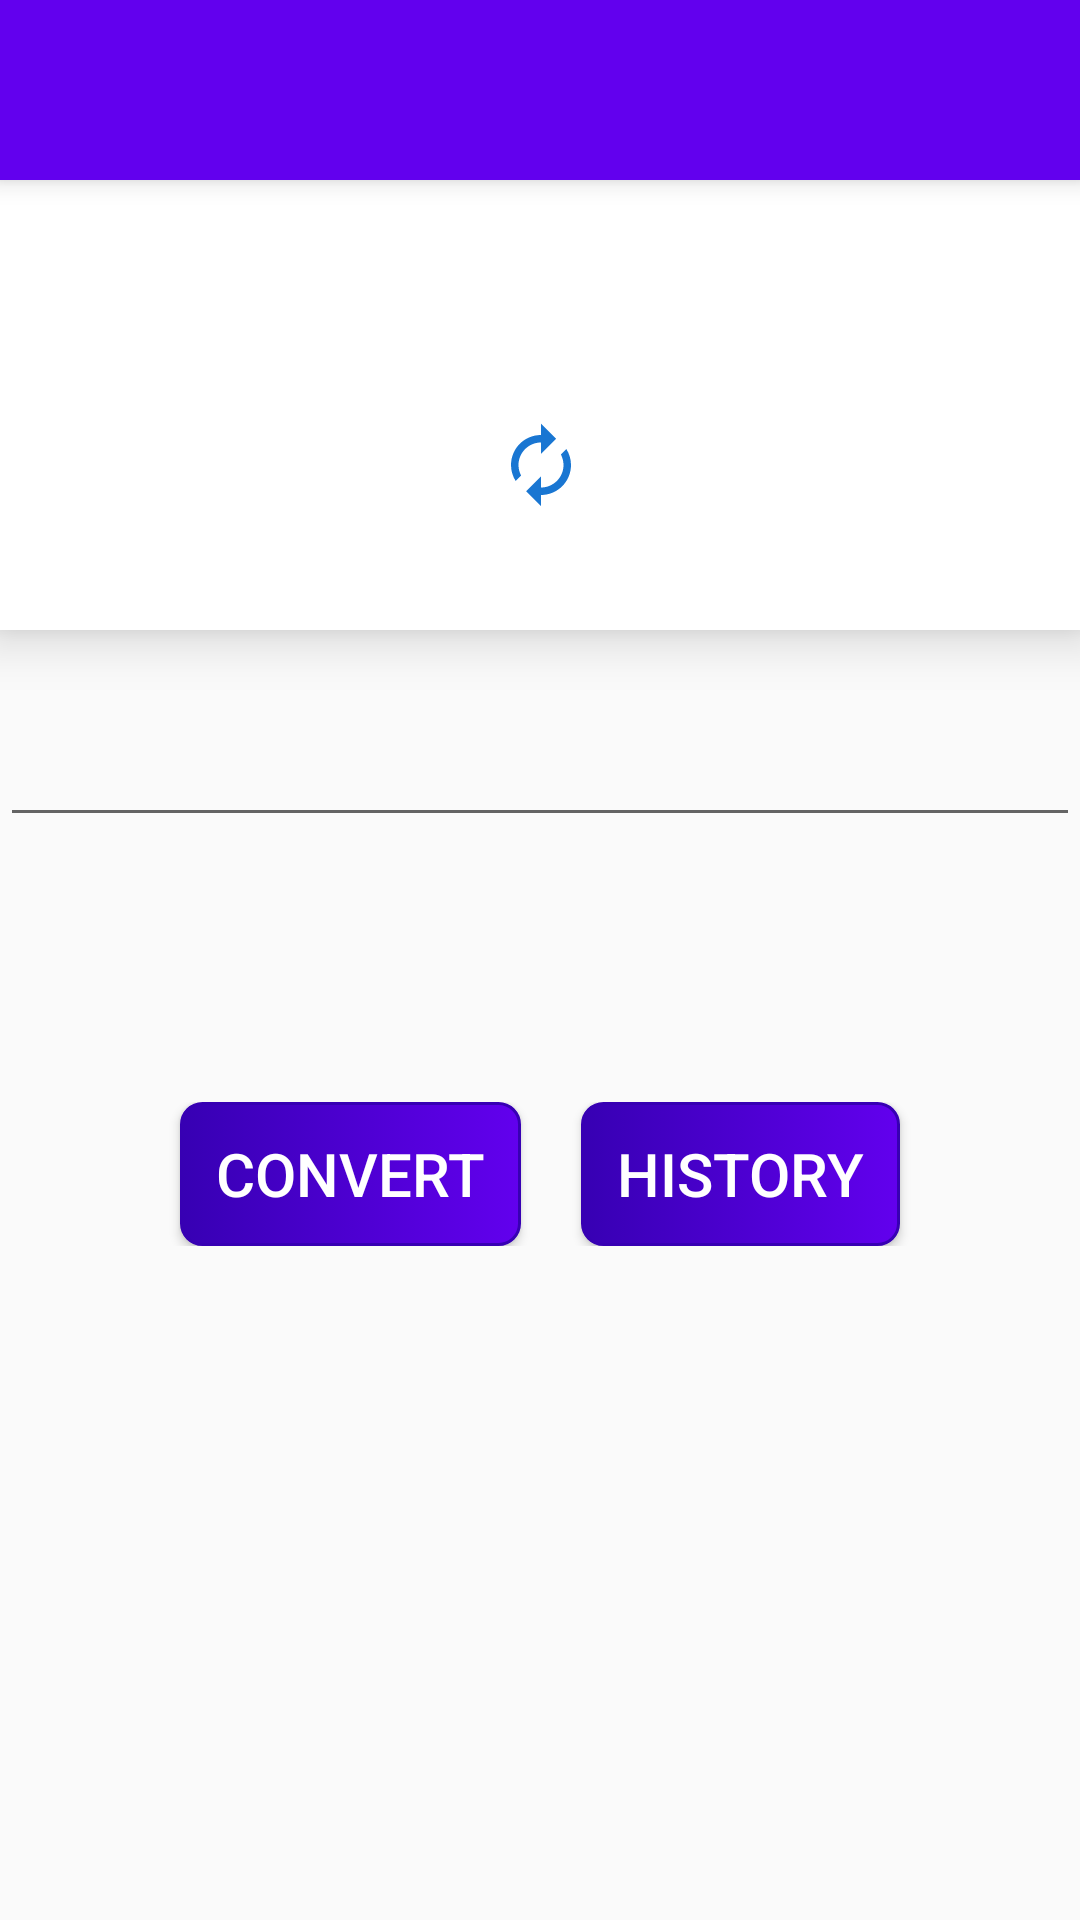

Where to tap for icons on this 1080px x 1920px app screen, as (x,y):
autorenew: (541,465)
